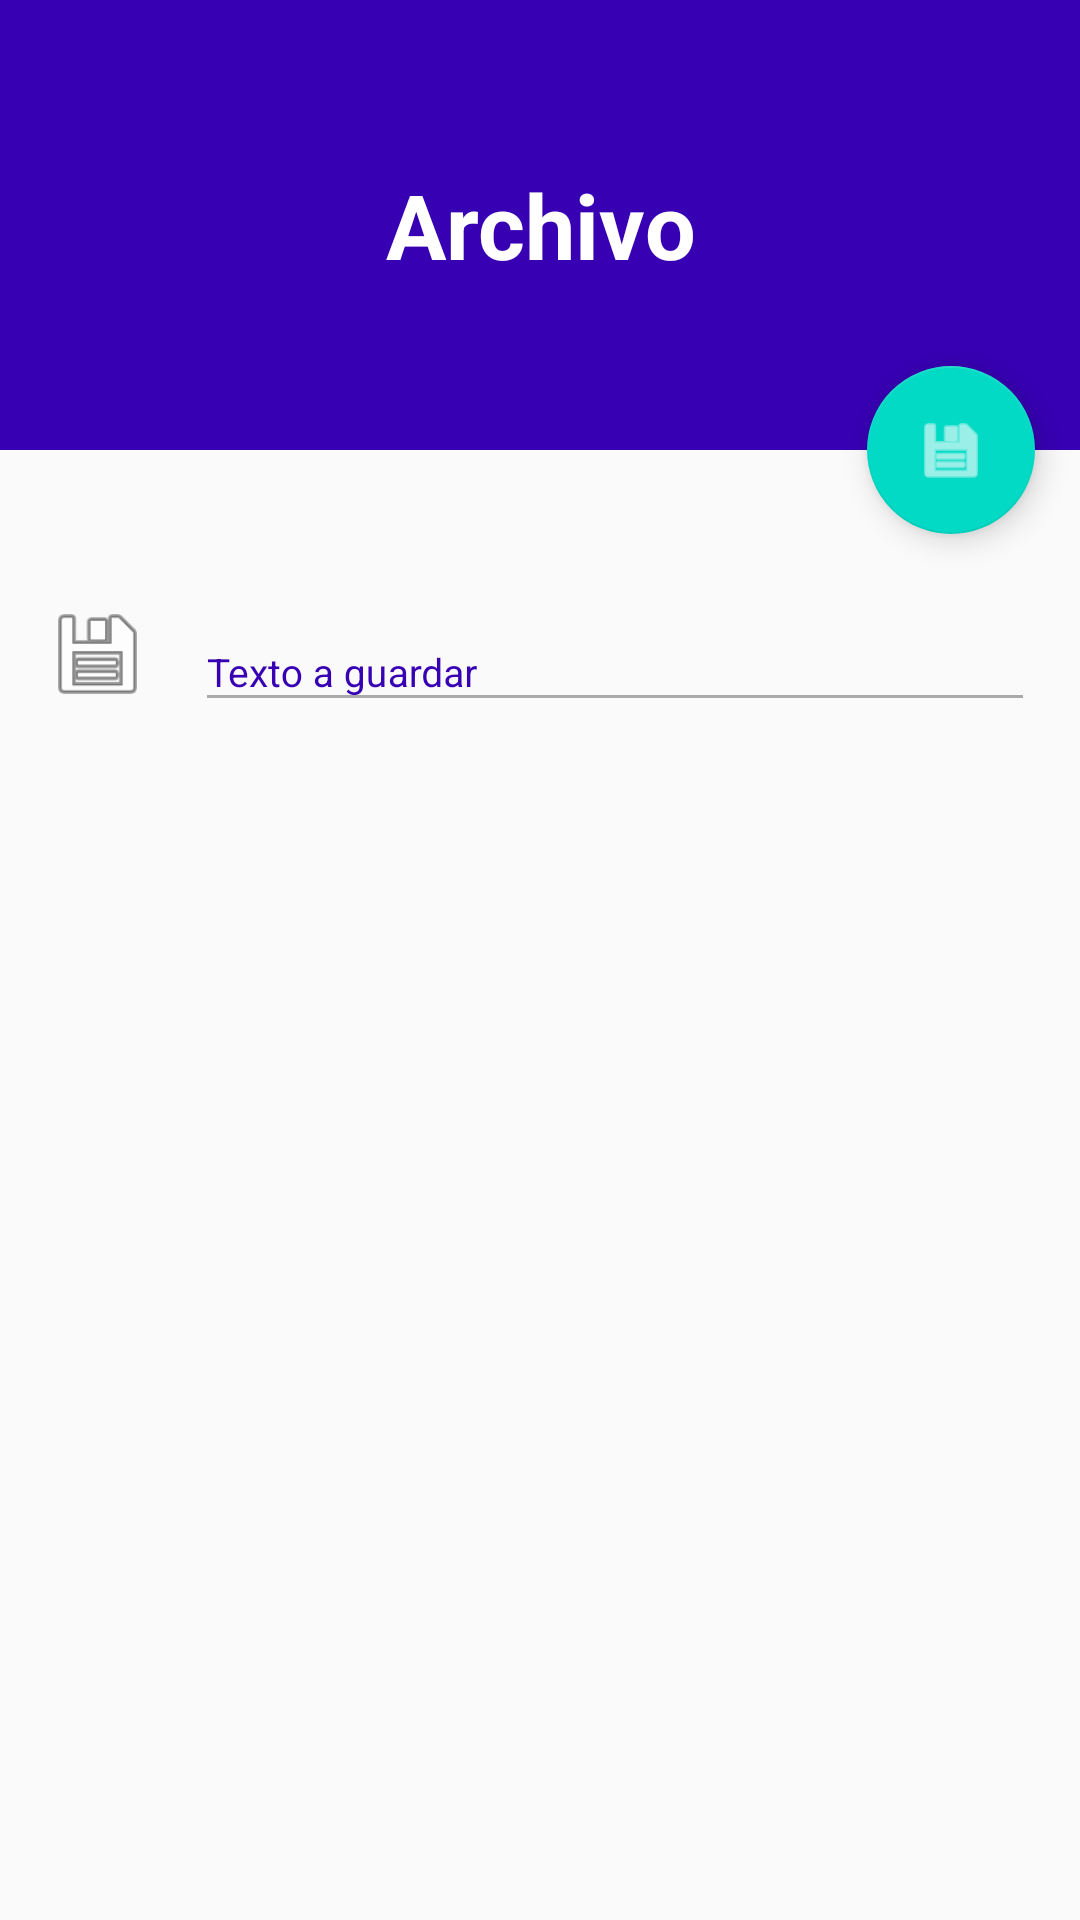

Screen size 1080px×1920px. Icon name, then its center in pixels as (x=x, y=y):
save: (x=951, y=450), (x=97, y=654)
